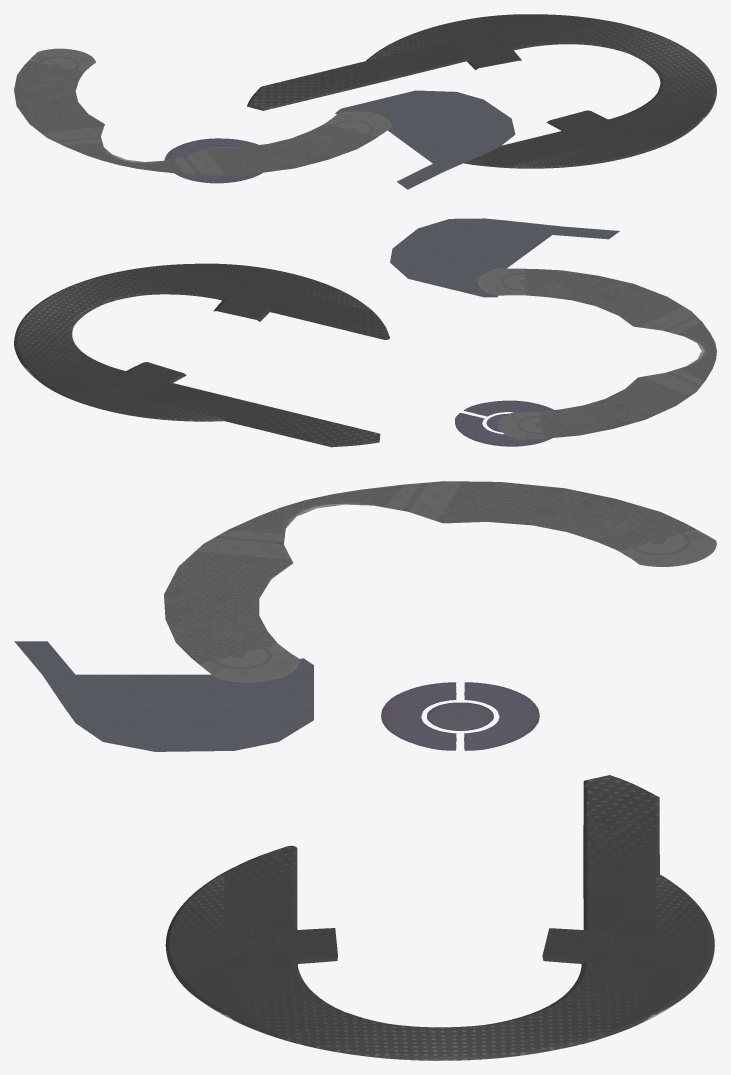
File: pref_sm_beach_winter_techborn02_mirror_lv3.fbx
3 renders of one model, top to bottom at view 1: azimuth 30°, elevation 25°; view 2: azimuth 150°, elevation 25°; view 3: azimuth 270°, elevation 25°, orthographic. The views are drawn at different scales.
Parts seen in each view (by area): view 1: pref_sm_beach_winter_techborn02_mirror_lv3; view 2: pref_sm_beach_winter_techborn02_mirror_lv3; view 3: pref_sm_beach_winter_techborn02_mirror_lv3.
Part boxes in pixels (<box>): pref_sm_beach_winter_techborn02_mirror_lv3: <box>14,14,716,189</box>; pref_sm_beach_winter_techborn02_mirror_lv3: <box>14,218,716,447</box>; pref_sm_beach_winter_techborn02_mirror_lv3: <box>14,481,716,1060</box>.
Bounding box in the file's own units: 35.96 × 3.81 × 22.6.
